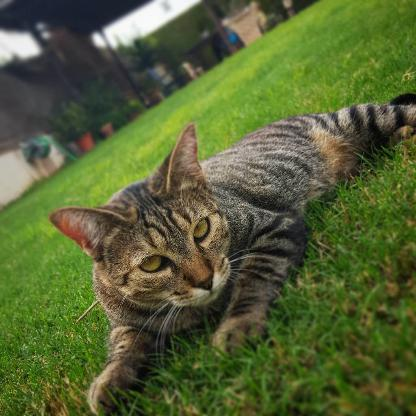Cat: (47, 94, 415, 414)
